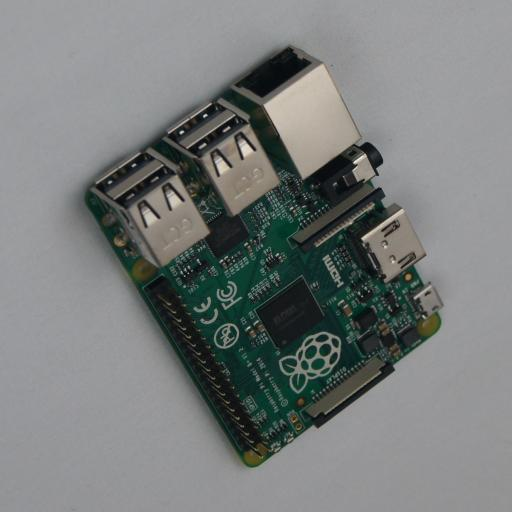Raspberry Pi 1 B-: (79, 45, 443, 467)
